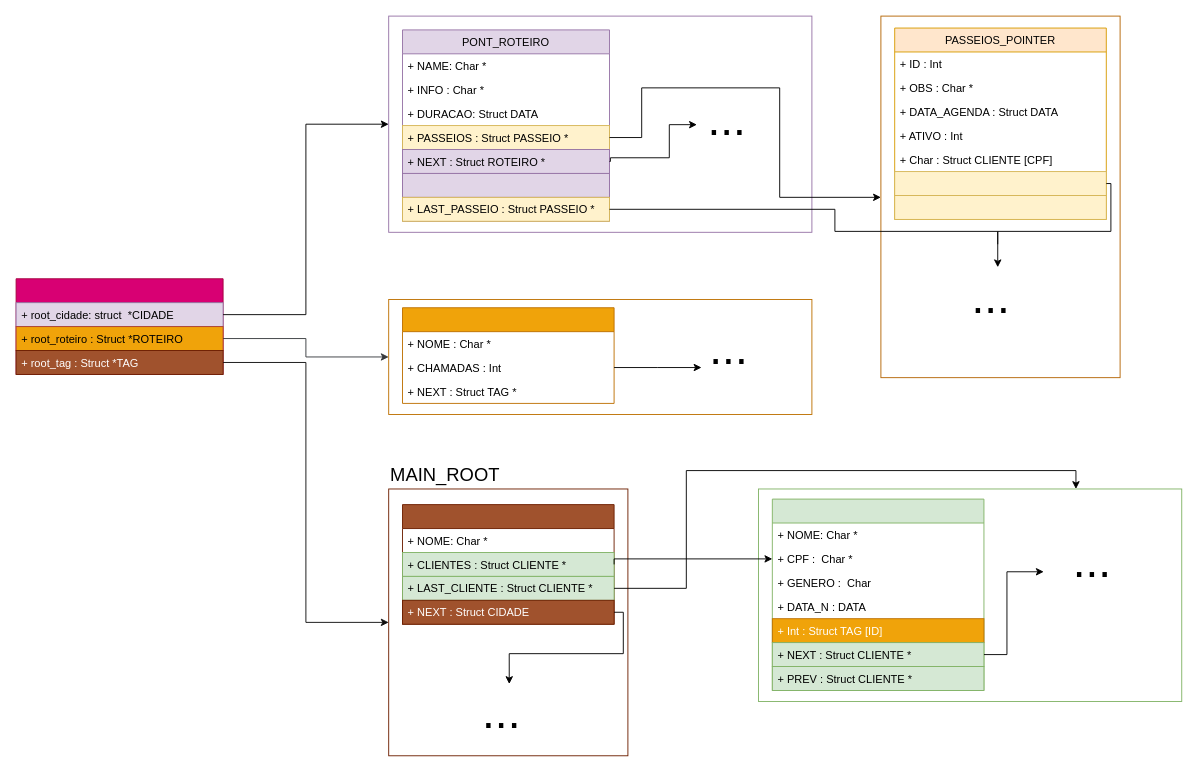
Some shapes in this 1198 by 772 pixel diagram are drawn without their labels. The box of each missing label's shape, as (x1, y1, x2, y2) in pixels:
+ NEXT : Struct PASSEIO *: (894, 171, 1106, 196)
+ PREV : Struct PASSEIO *: (894, 195, 1106, 219)
+ PREV : Struct ROTEIRO: (402, 172, 610, 197)
PONT_CIDADE: (402, 504, 614, 624)
PONT_CLIENTE: (771, 498, 984, 690)
PONT_SESSION: (15, 278, 223, 374)
PONT_TAG: (402, 307, 614, 403)
